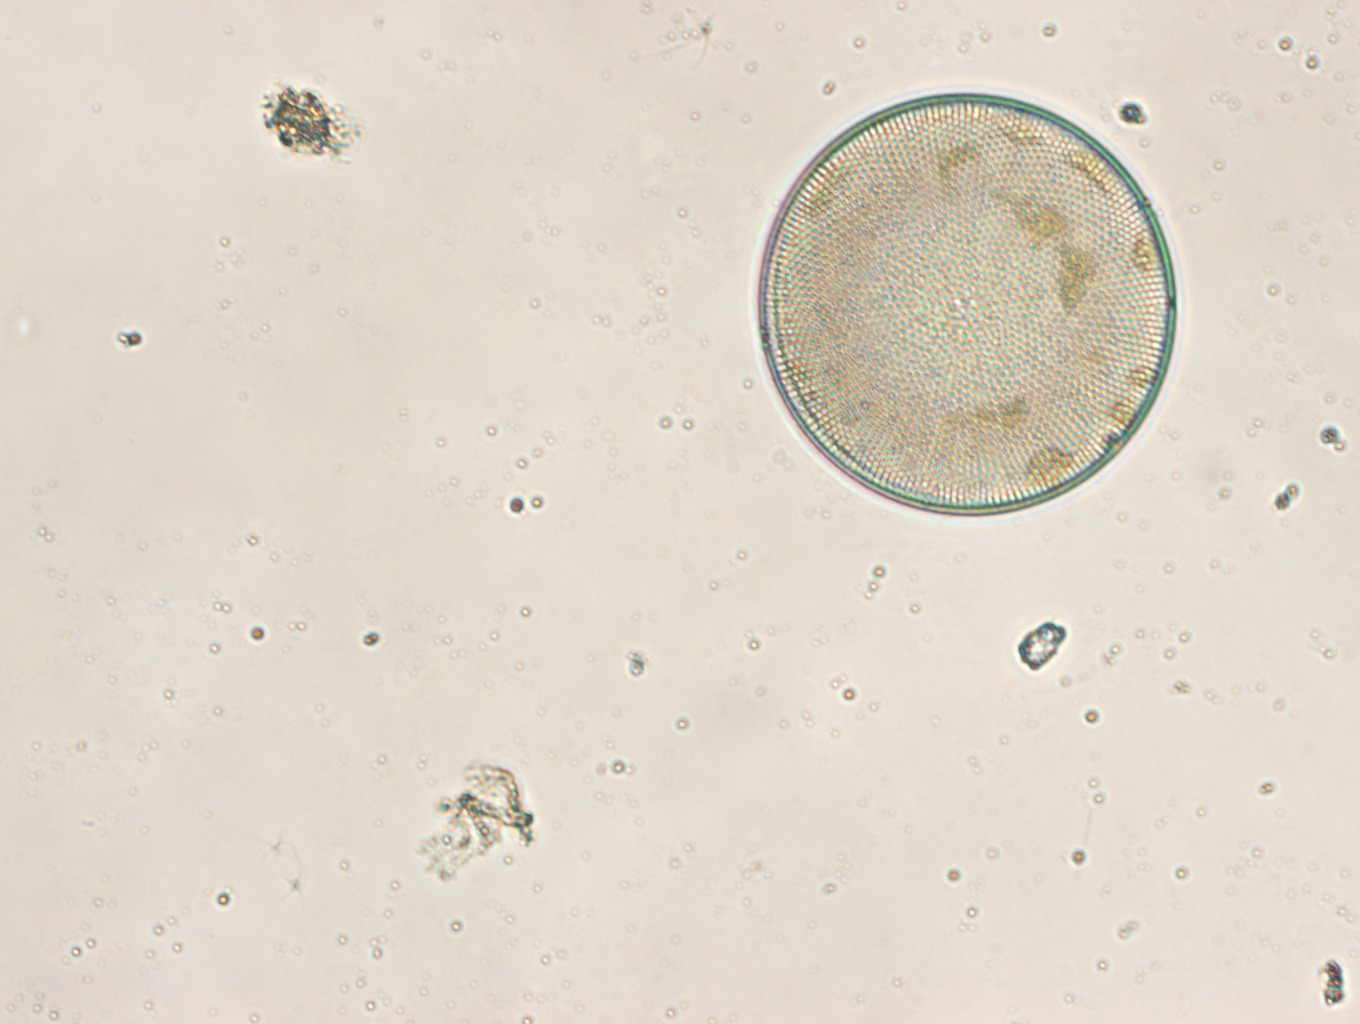coscinodiscus: (757, 93, 1179, 515)
